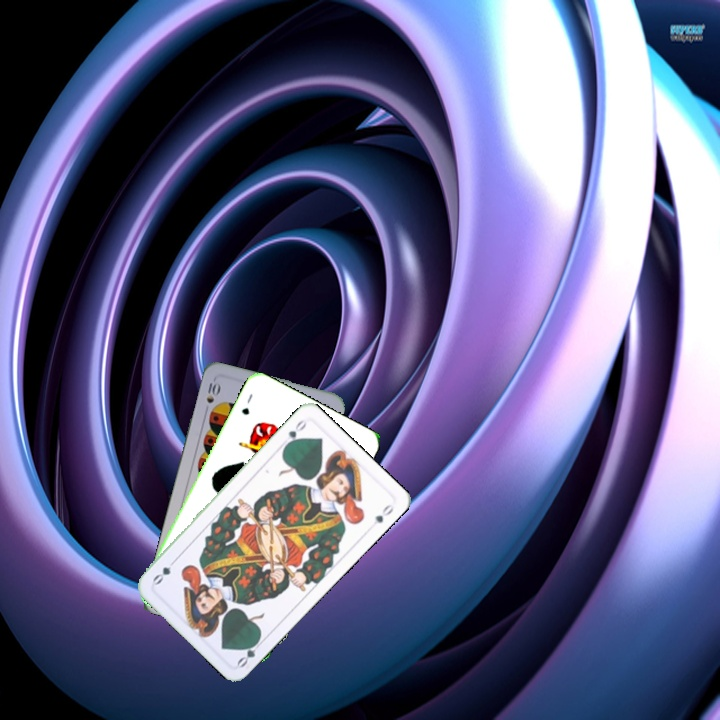GO: (233, 634, 266, 670), (280, 415, 309, 450)
GU: (237, 390, 255, 418)
S10: (200, 376, 222, 416)
